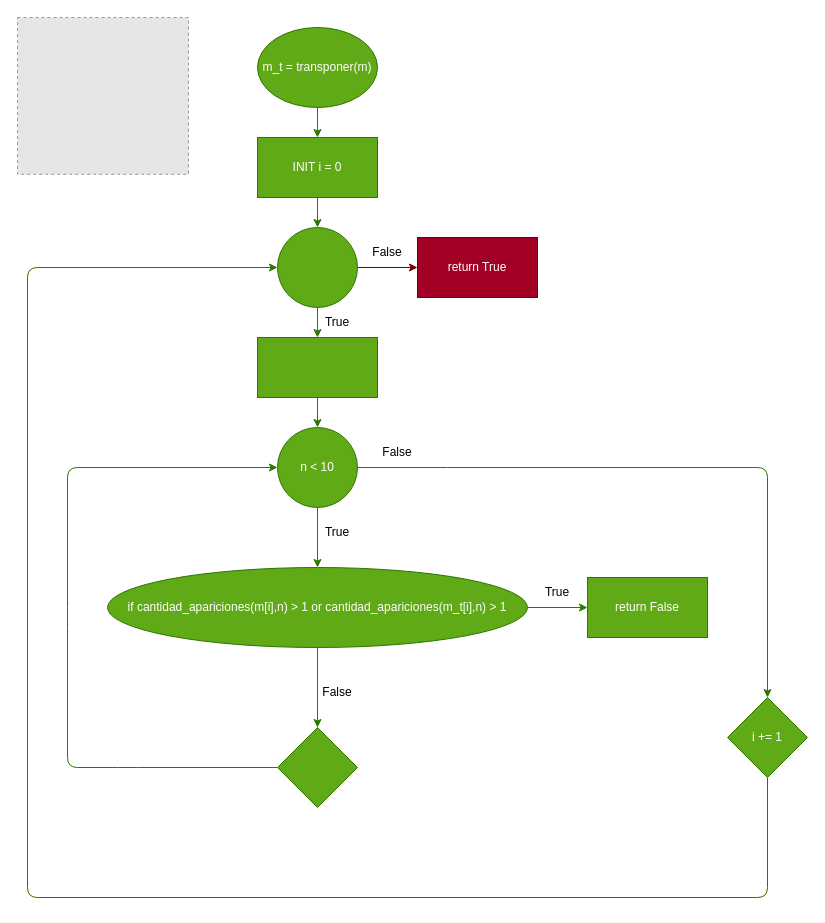
This 825x923 diagram has some shape labels left out. Grey dashed boxes stand in for pictures. The centre of each missing label's shape, as x and y in pixels:
i < len(m): (x=317, y=267)
INIT n = 1: (x=317, y=367)
n += 1: (x=317, y=767)
